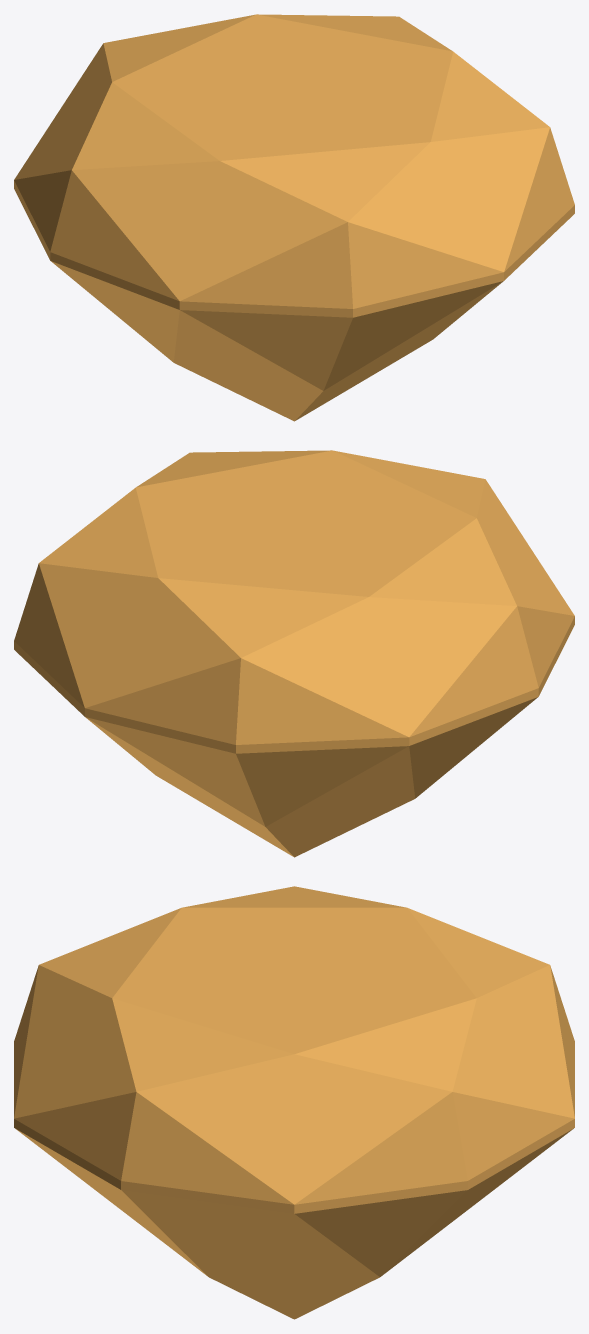
Rendered from DiamondBrilliant_03.fbx.
3 views of the same model, one above another, from view 1: azimuth 30°, elevation 25°; view 2: azimuth 150°, elevation 25°; view 3: azimuth 270°, elevation 25° (orthographic). The views are drawn at different scales.
Visible parts, largest first — view 1: DiamondBrilliant_03; view 2: DiamondBrilliant_03; view 3: DiamondBrilliant_03.
Boxes of the visible parts, x1,y1,x2,y2 form: DiamondBrilliant_03: [14, 14, 574, 421]; DiamondBrilliant_03: [14, 450, 574, 857]; DiamondBrilliant_03: [14, 886, 574, 1319].
Size of the model in its own units: 374 by 242 by 356.
